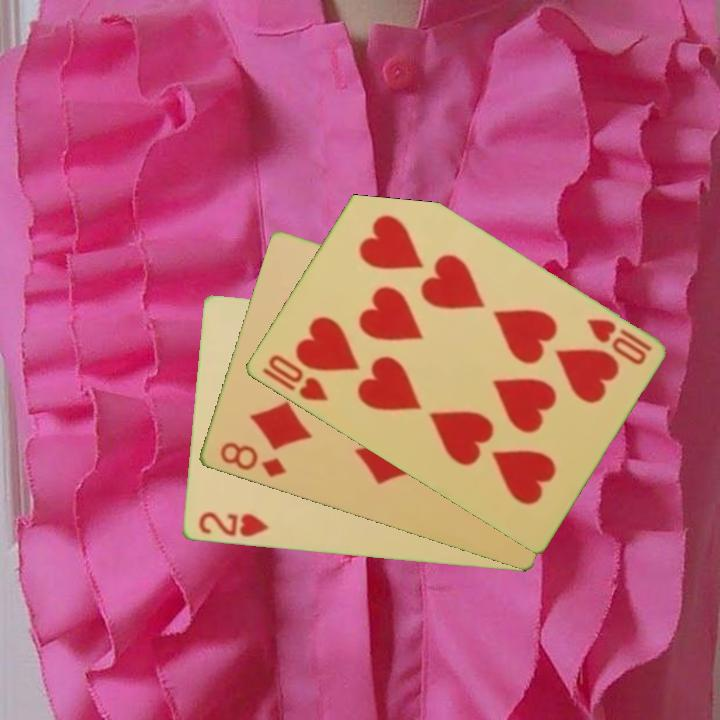10h: (582, 315, 655, 368), (264, 351, 331, 405)
2h: (195, 508, 271, 541)
8d: (216, 438, 290, 481)
